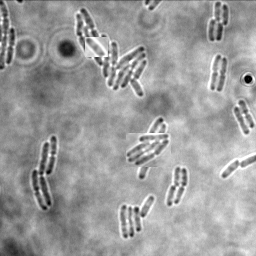Dividing: (175, 167, 189, 204), (238, 99, 255, 128), (209, 54, 222, 90), (217, 56, 228, 92), (7, 27, 17, 64)
Microcolony: (76, 7, 147, 98), (32, 135, 57, 211), (126, 133, 171, 167), (120, 195, 155, 238), (208, 1, 229, 42)
Rod: (233, 106, 251, 135), (85, 37, 108, 57), (222, 157, 240, 178), (167, 184, 177, 206), (174, 166, 183, 187)
